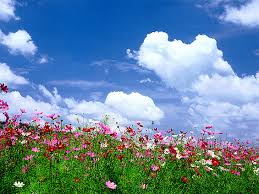flower: (3, 112, 256, 170)
sky: (1, 2, 259, 115)
